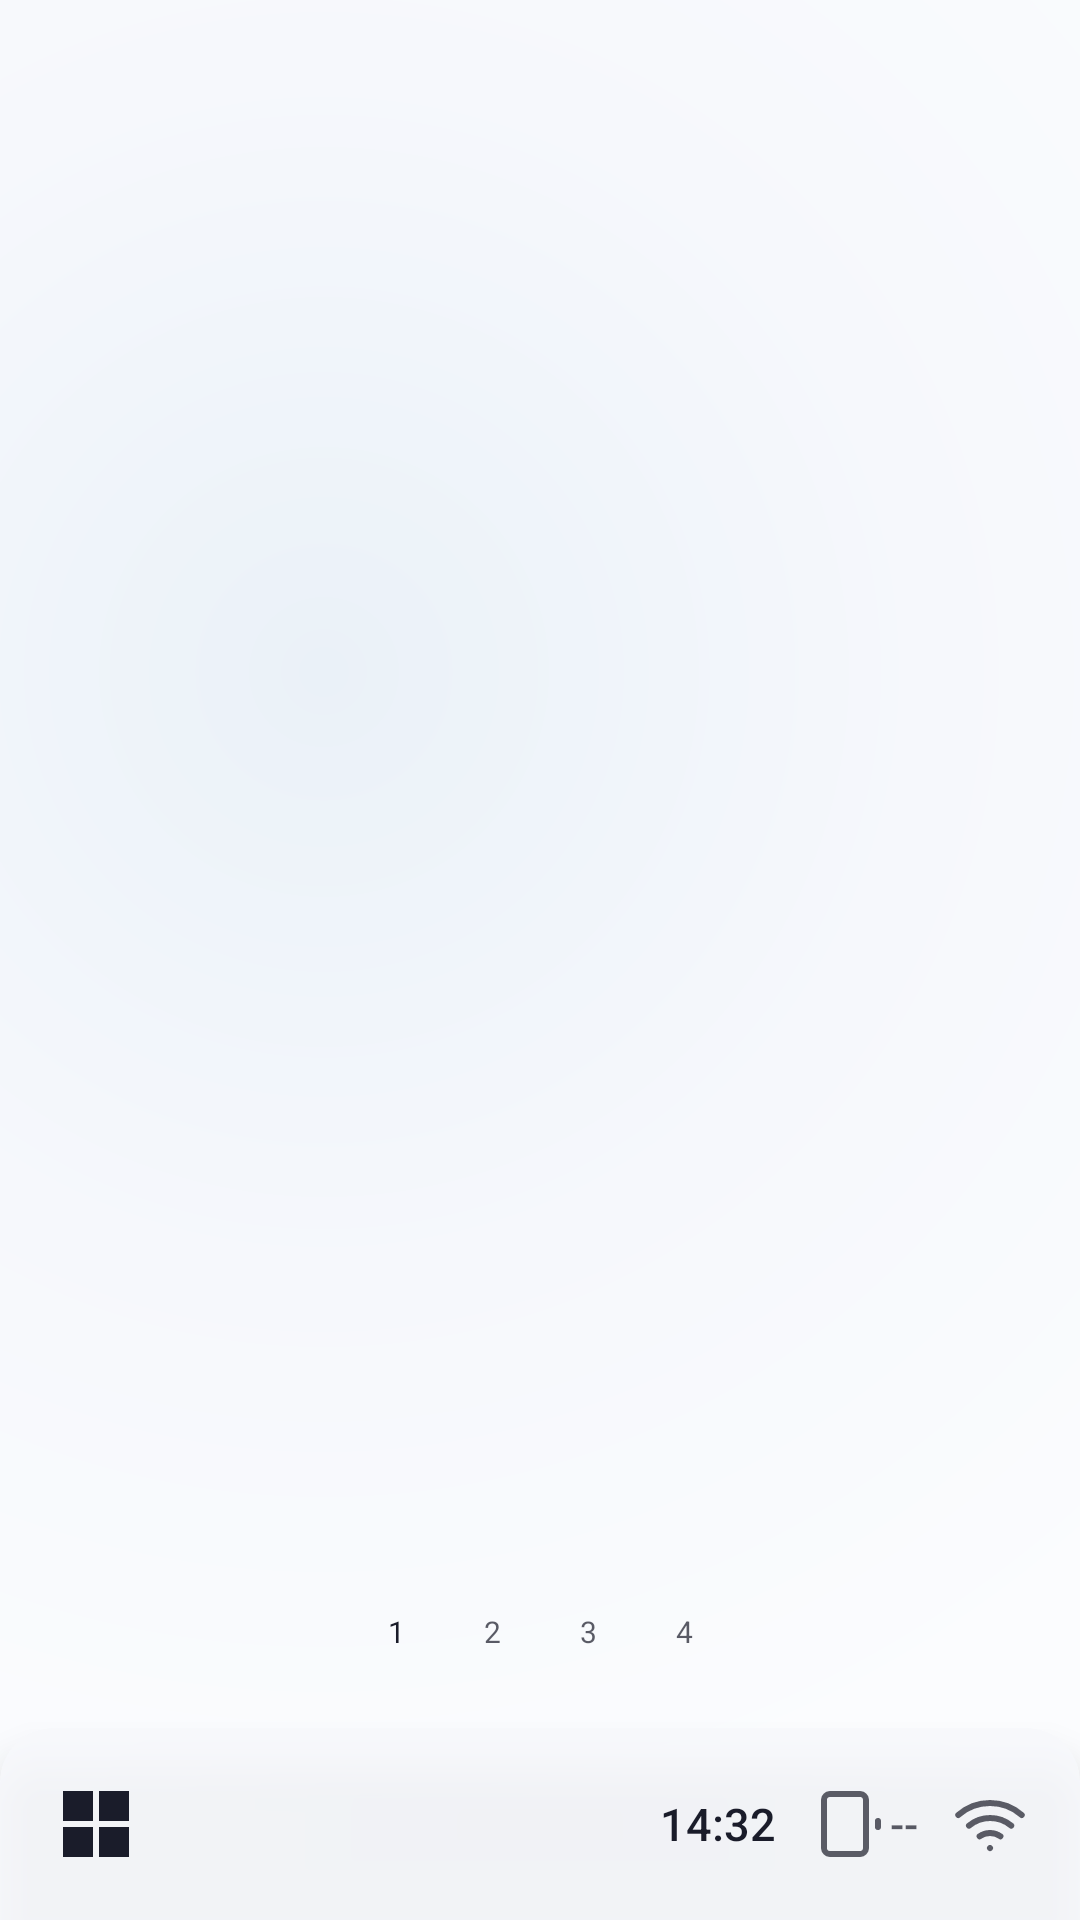

Screen size 1080 × 1920. Icon name, then its box in pixels as {"x1": x1, "y1": y1, "x2": x2, "y2": y2}:
battery: {"x1": 821, "y1": 1791, "x2": 881, "y2": 1857}
wifi: {"x1": 955, "y1": 1800, "x2": 1025, "y2": 1851}
